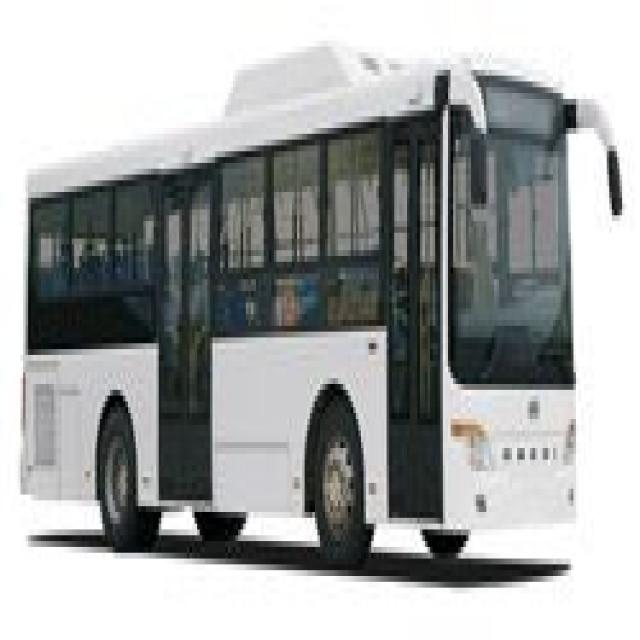bus: (18, 41, 625, 582)
